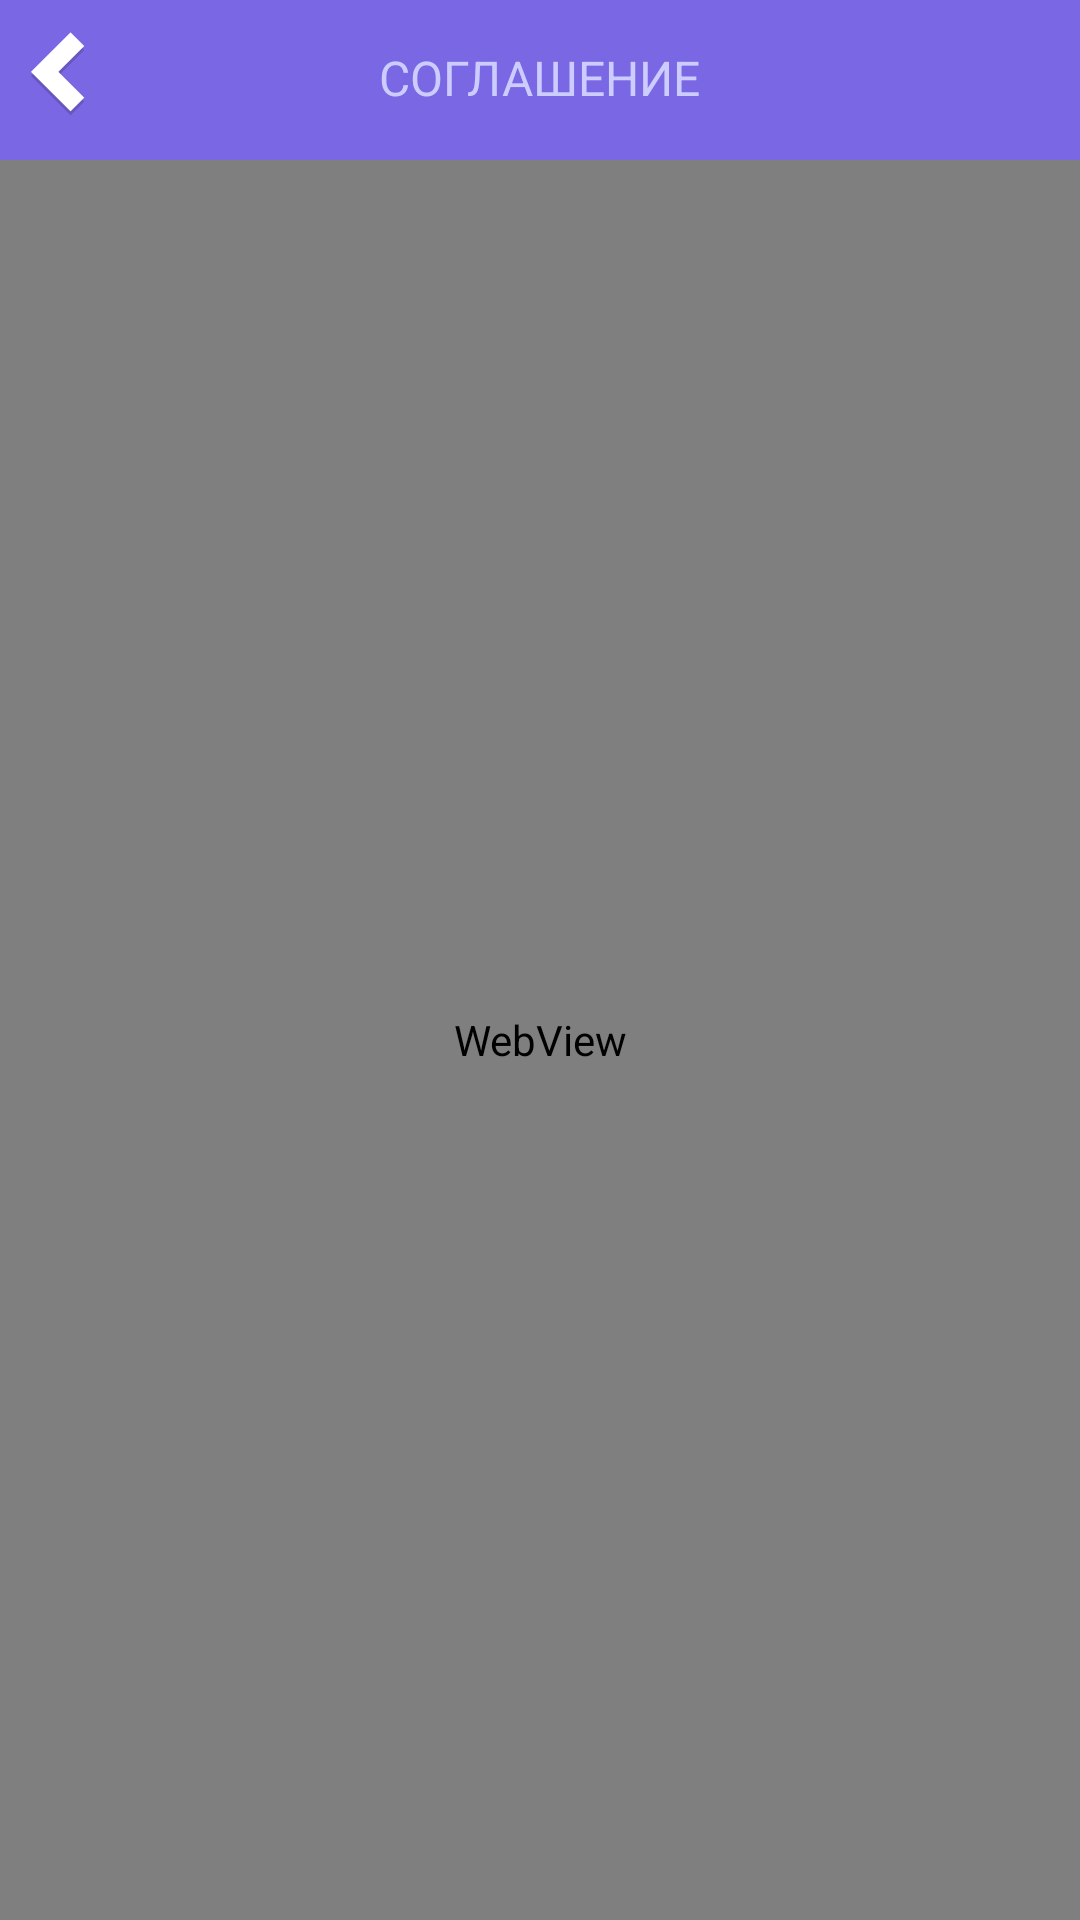

Icon click points for this 1080*1920 phone screenshot, format point (x, y):
btnback: point (57, 73)
